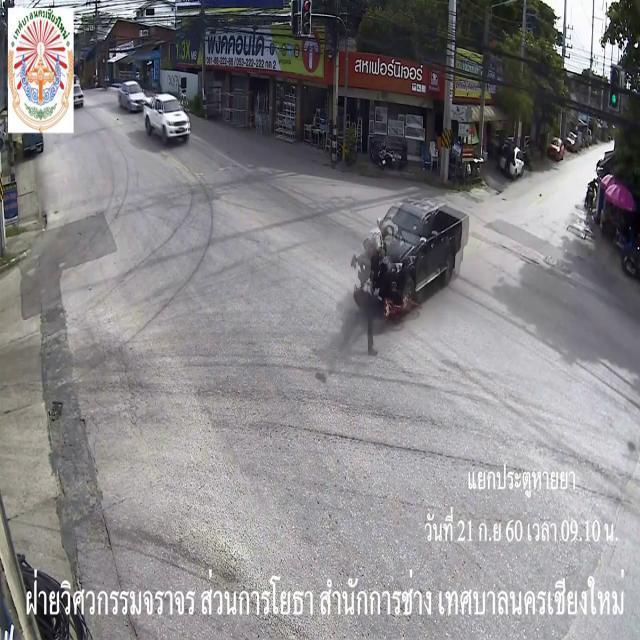accident: (350, 193, 468, 324)
non-accident: (119, 80, 191, 146), (546, 130, 584, 162)
